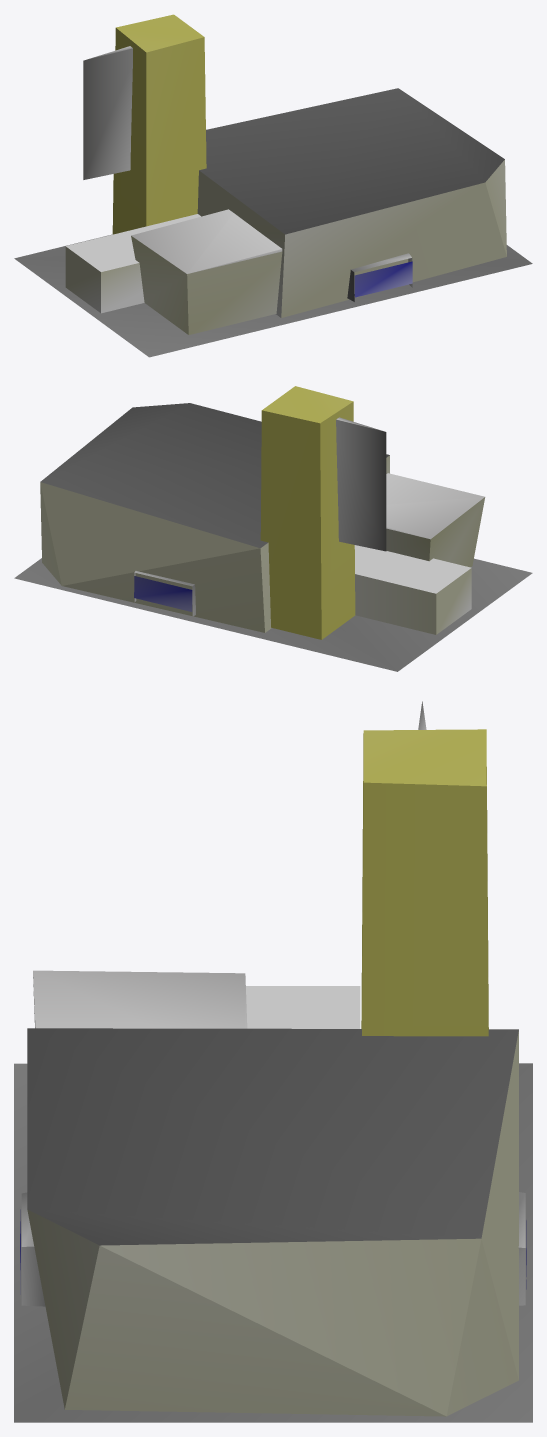
The model's file is Edificio12.fbx.
The picture shows the model from 3 angles, top to bottom: view 1: azimuth 30°, elevation 25°; view 2: azimuth 150°, elevation 25°; view 3: azimuth 270°, elevation 25°; orthographic projection. The views are drawn at different scales.
Visible parts, largest first — view 1: edifComercial; view 2: edifComercial; view 3: edifComercial.
Boxes of the visible parts, x1,y1,x2,y2 form: edifComercial: (14, 14, 532, 357); edifComercial: (14, 386, 532, 671); edifComercial: (14, 701, 532, 1422).
Bounding box in the file's own units: 3910 × 2122 × 2388.
